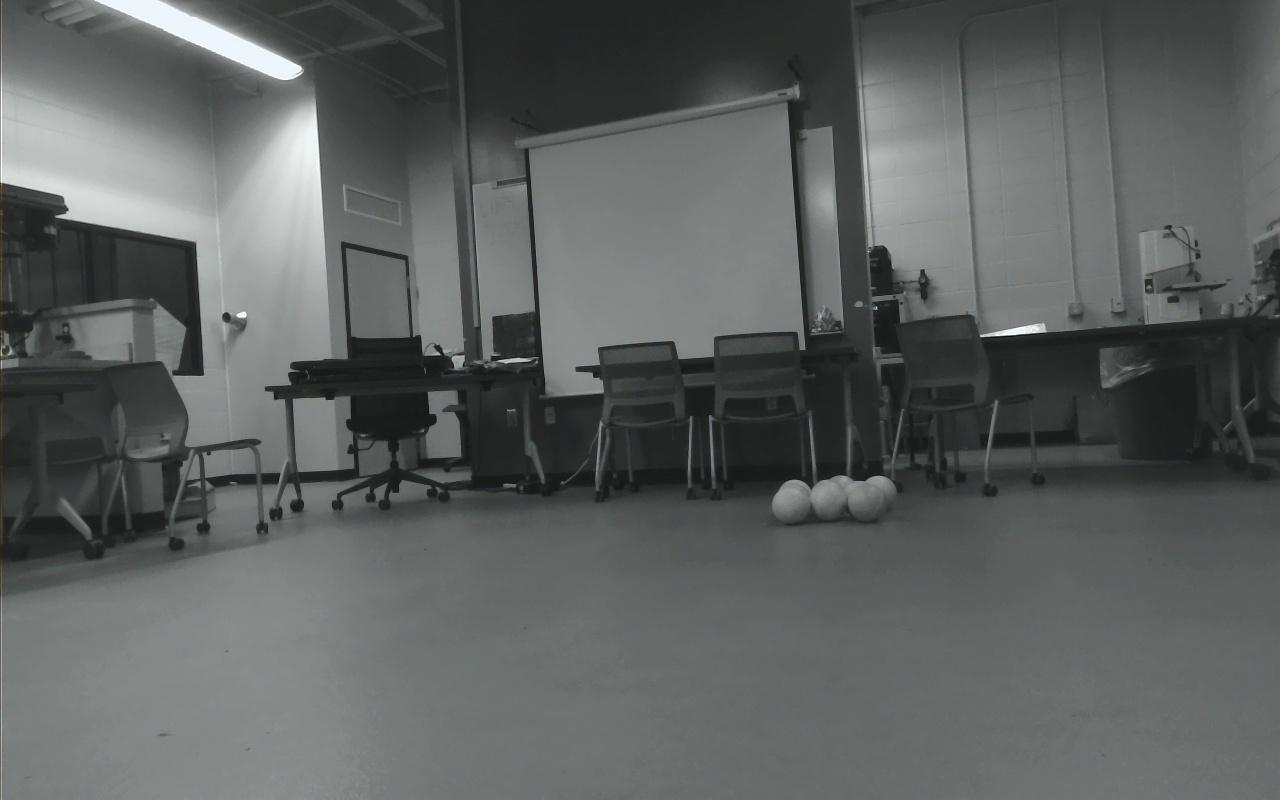Fuel: (772, 482, 812, 524), (847, 482, 886, 522), (810, 481, 847, 521), (810, 480, 846, 515), (778, 479, 813, 514), (864, 475, 897, 512), (841, 480, 872, 518), (778, 483, 811, 518), (827, 475, 854, 510)
